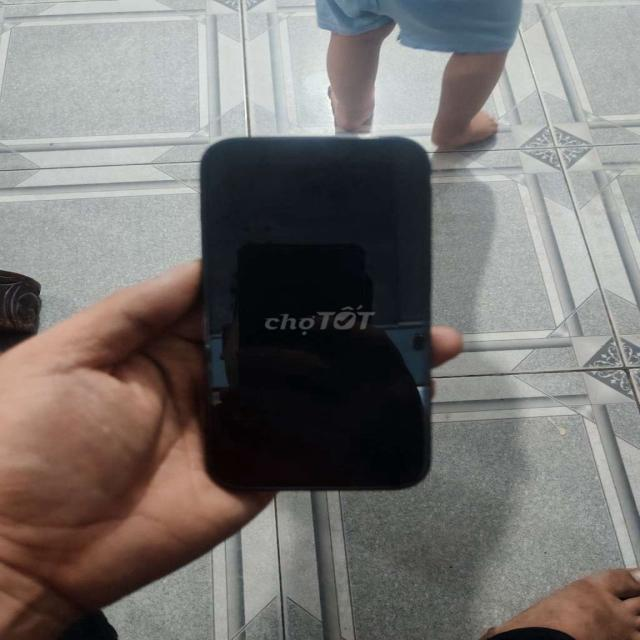gen_14: (185, 129, 453, 498)
